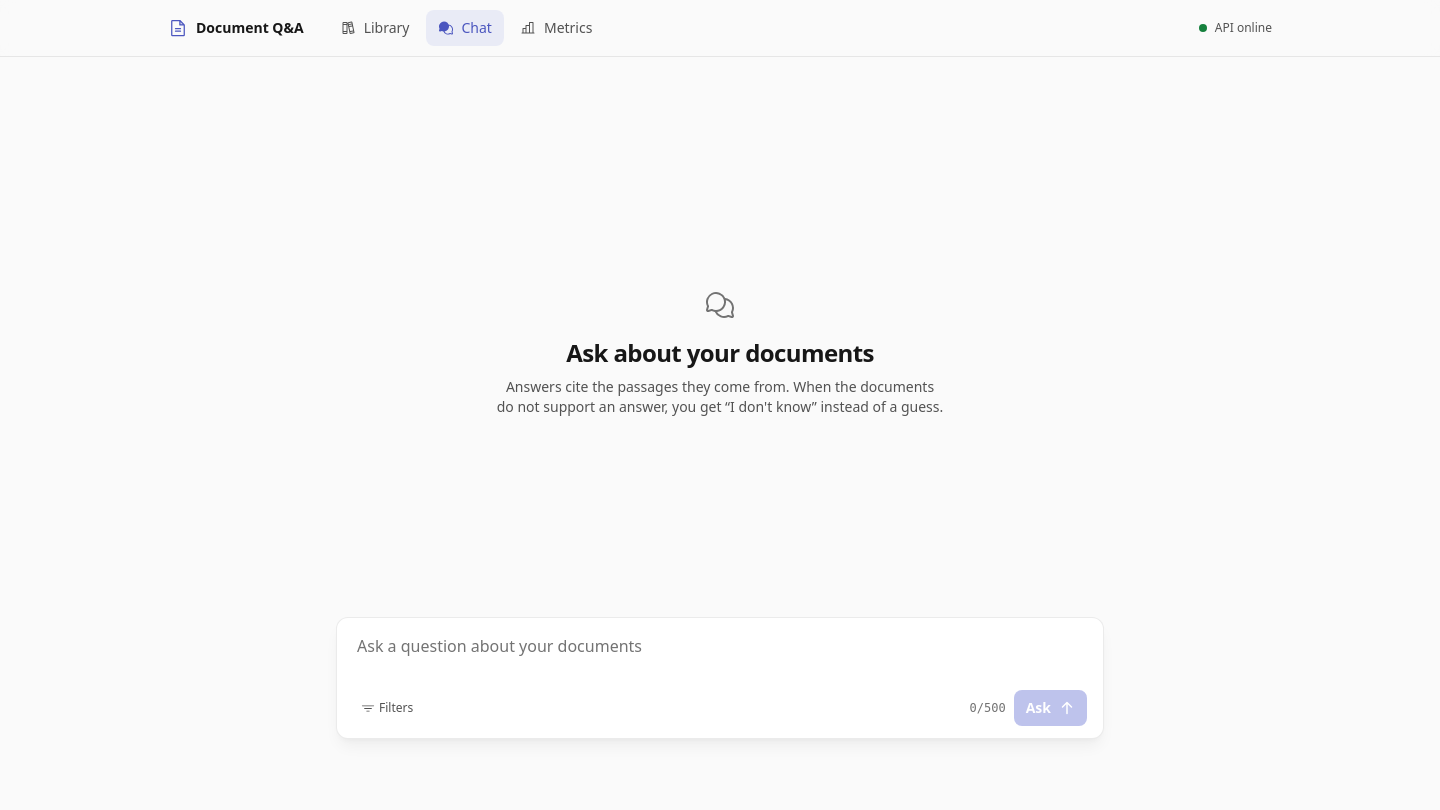
Test case: asking › renders answers as text, never as HTML
The width and height of the screenshot is (1440, 810).
Type "test" into the text box labelled "question".
click(720, 658); type("test")  # box [345, 626, 1095, 690]
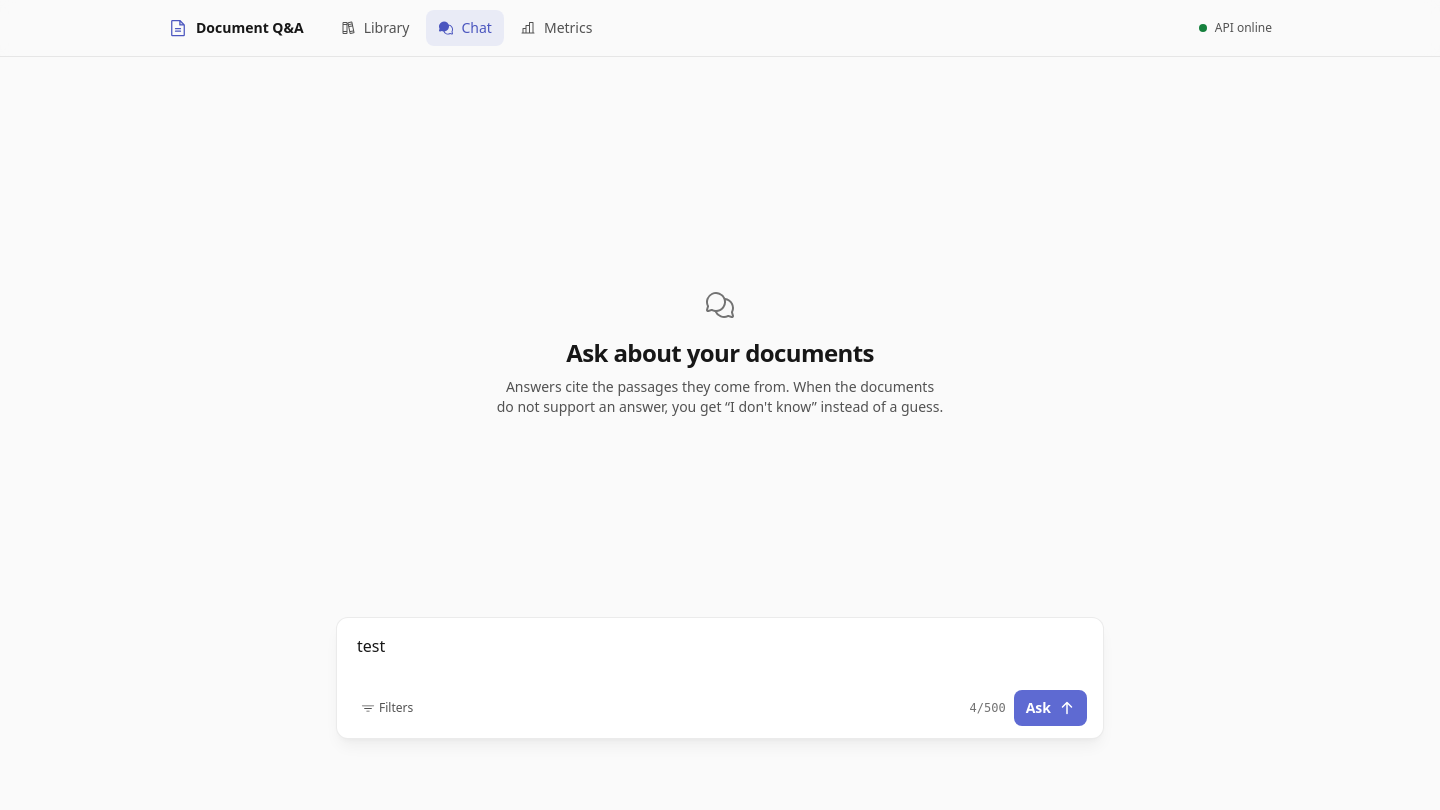
Click the button "Ask".
click(1050, 708)  # box [1014, 690, 1087, 726]
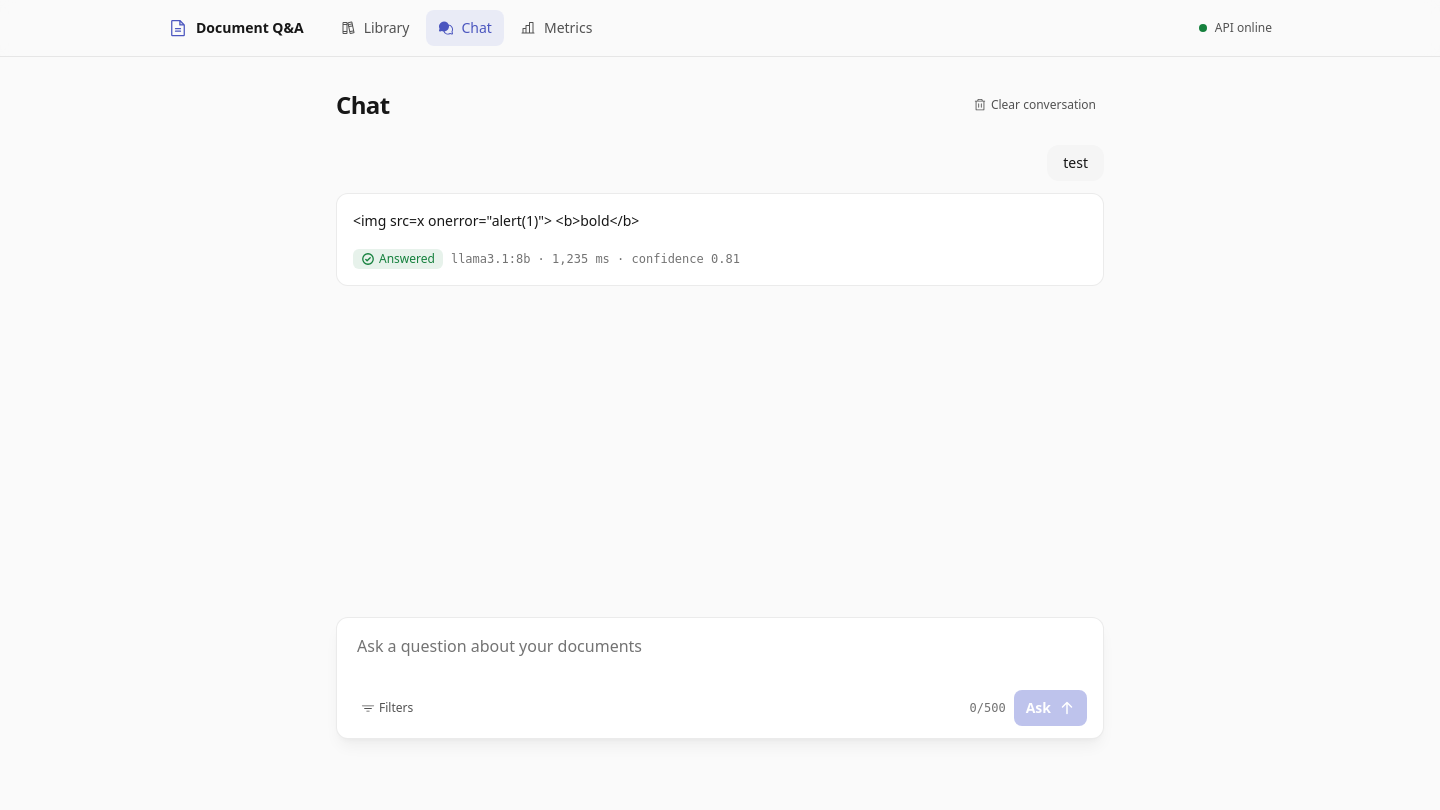
Now the text "<img src=x onerror=\"alert(1)\"> <b>bold</b>" is shown, box [353, 211, 639, 230]
